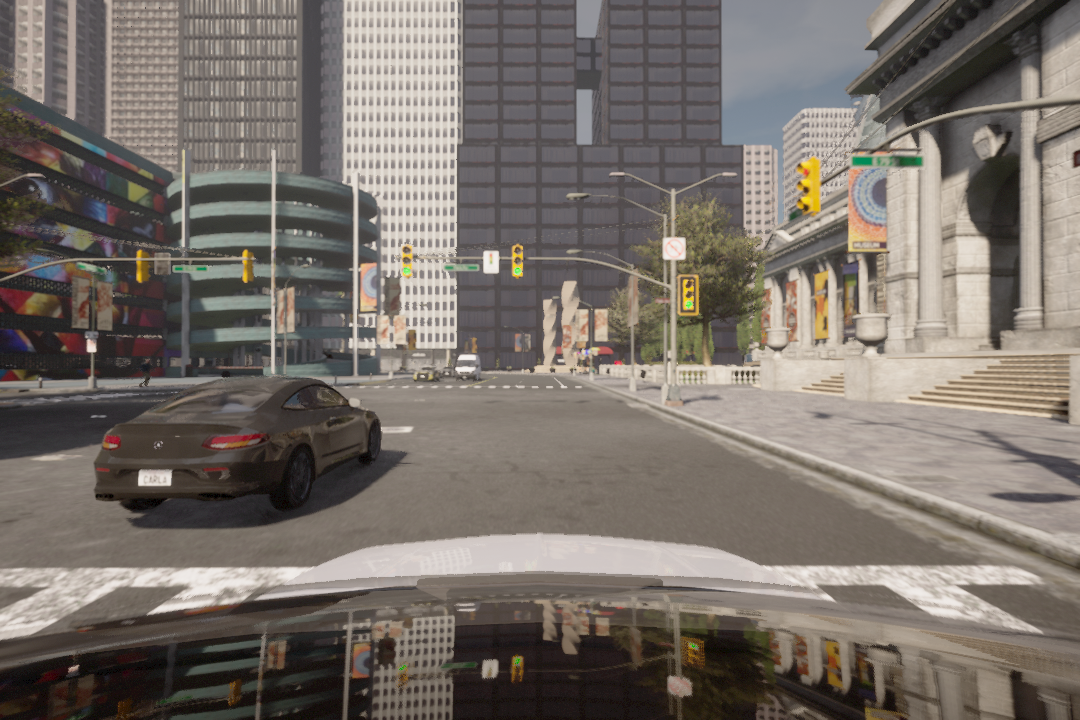TrafficLight: (790, 160, 821, 216), (674, 275, 701, 317), (510, 243, 524, 281), (400, 241, 414, 279)
TrafficSign: (661, 237, 683, 258)
